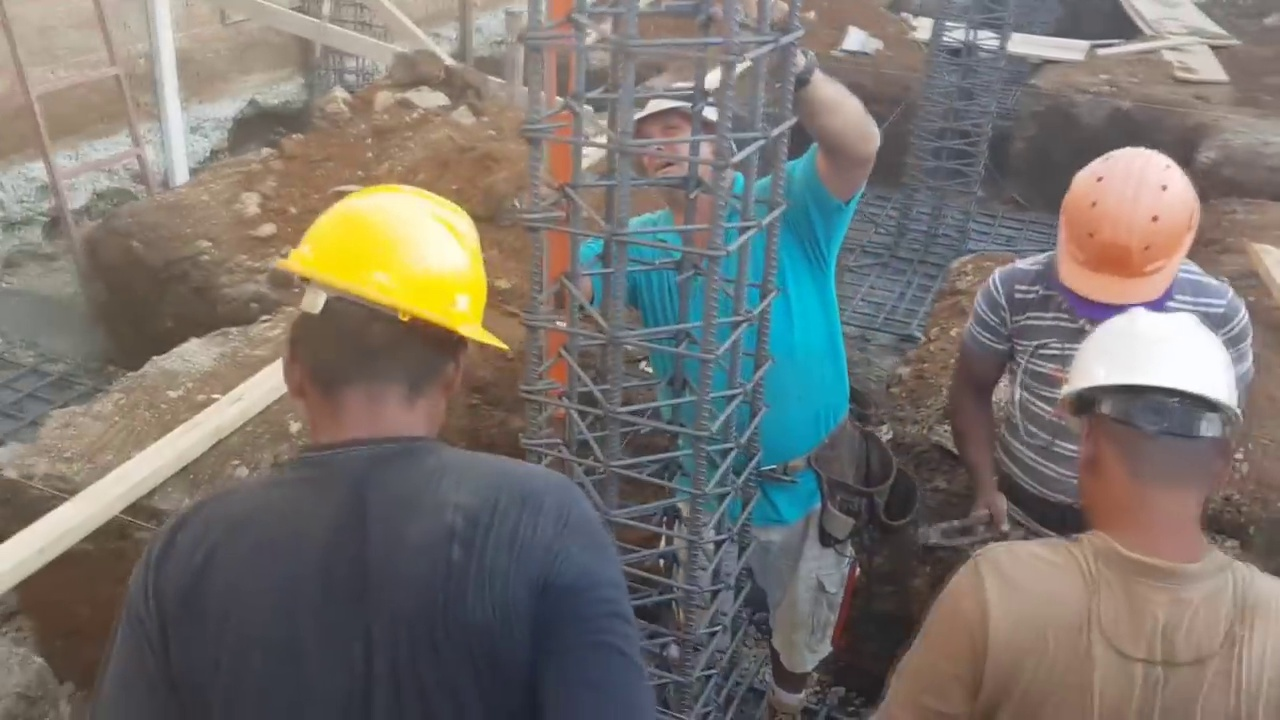helmet: (269, 179, 512, 354), (1055, 153, 1199, 299), (1067, 303, 1242, 415), (631, 81, 721, 125)
helmet-on: (265, 174, 512, 455), (630, 81, 721, 212)
person: (103, 179, 658, 720), (578, 43, 878, 719), (881, 303, 1280, 720), (942, 148, 1257, 537)
